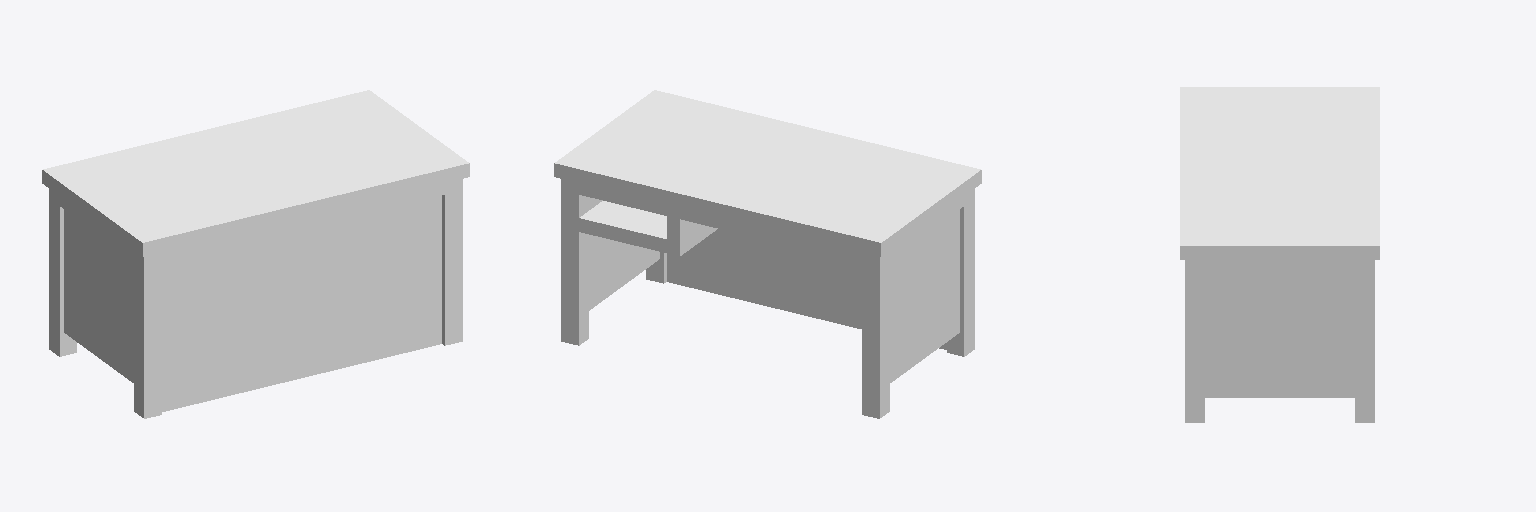
Rendered from Desk.obj.
3 renders of one model, left to right at view 1: azimuth 30°, elevation 25°; view 2: azimuth 150°, elevation 25°; view 3: azimuth 270°, elevation 25°, orthographic.
Parts seen in each view (by area): view 1: Desk; view 2: Desk; view 3: Desk.
Boxes of the visible parts, box(x1,y1,x2,y2) form: Desk: box(42, 90, 469, 418); Desk: box(554, 90, 981, 418); Desk: box(1180, 87, 1379, 422).
Size of the model in its own units: 7.34 by 3.84 by 3.9.